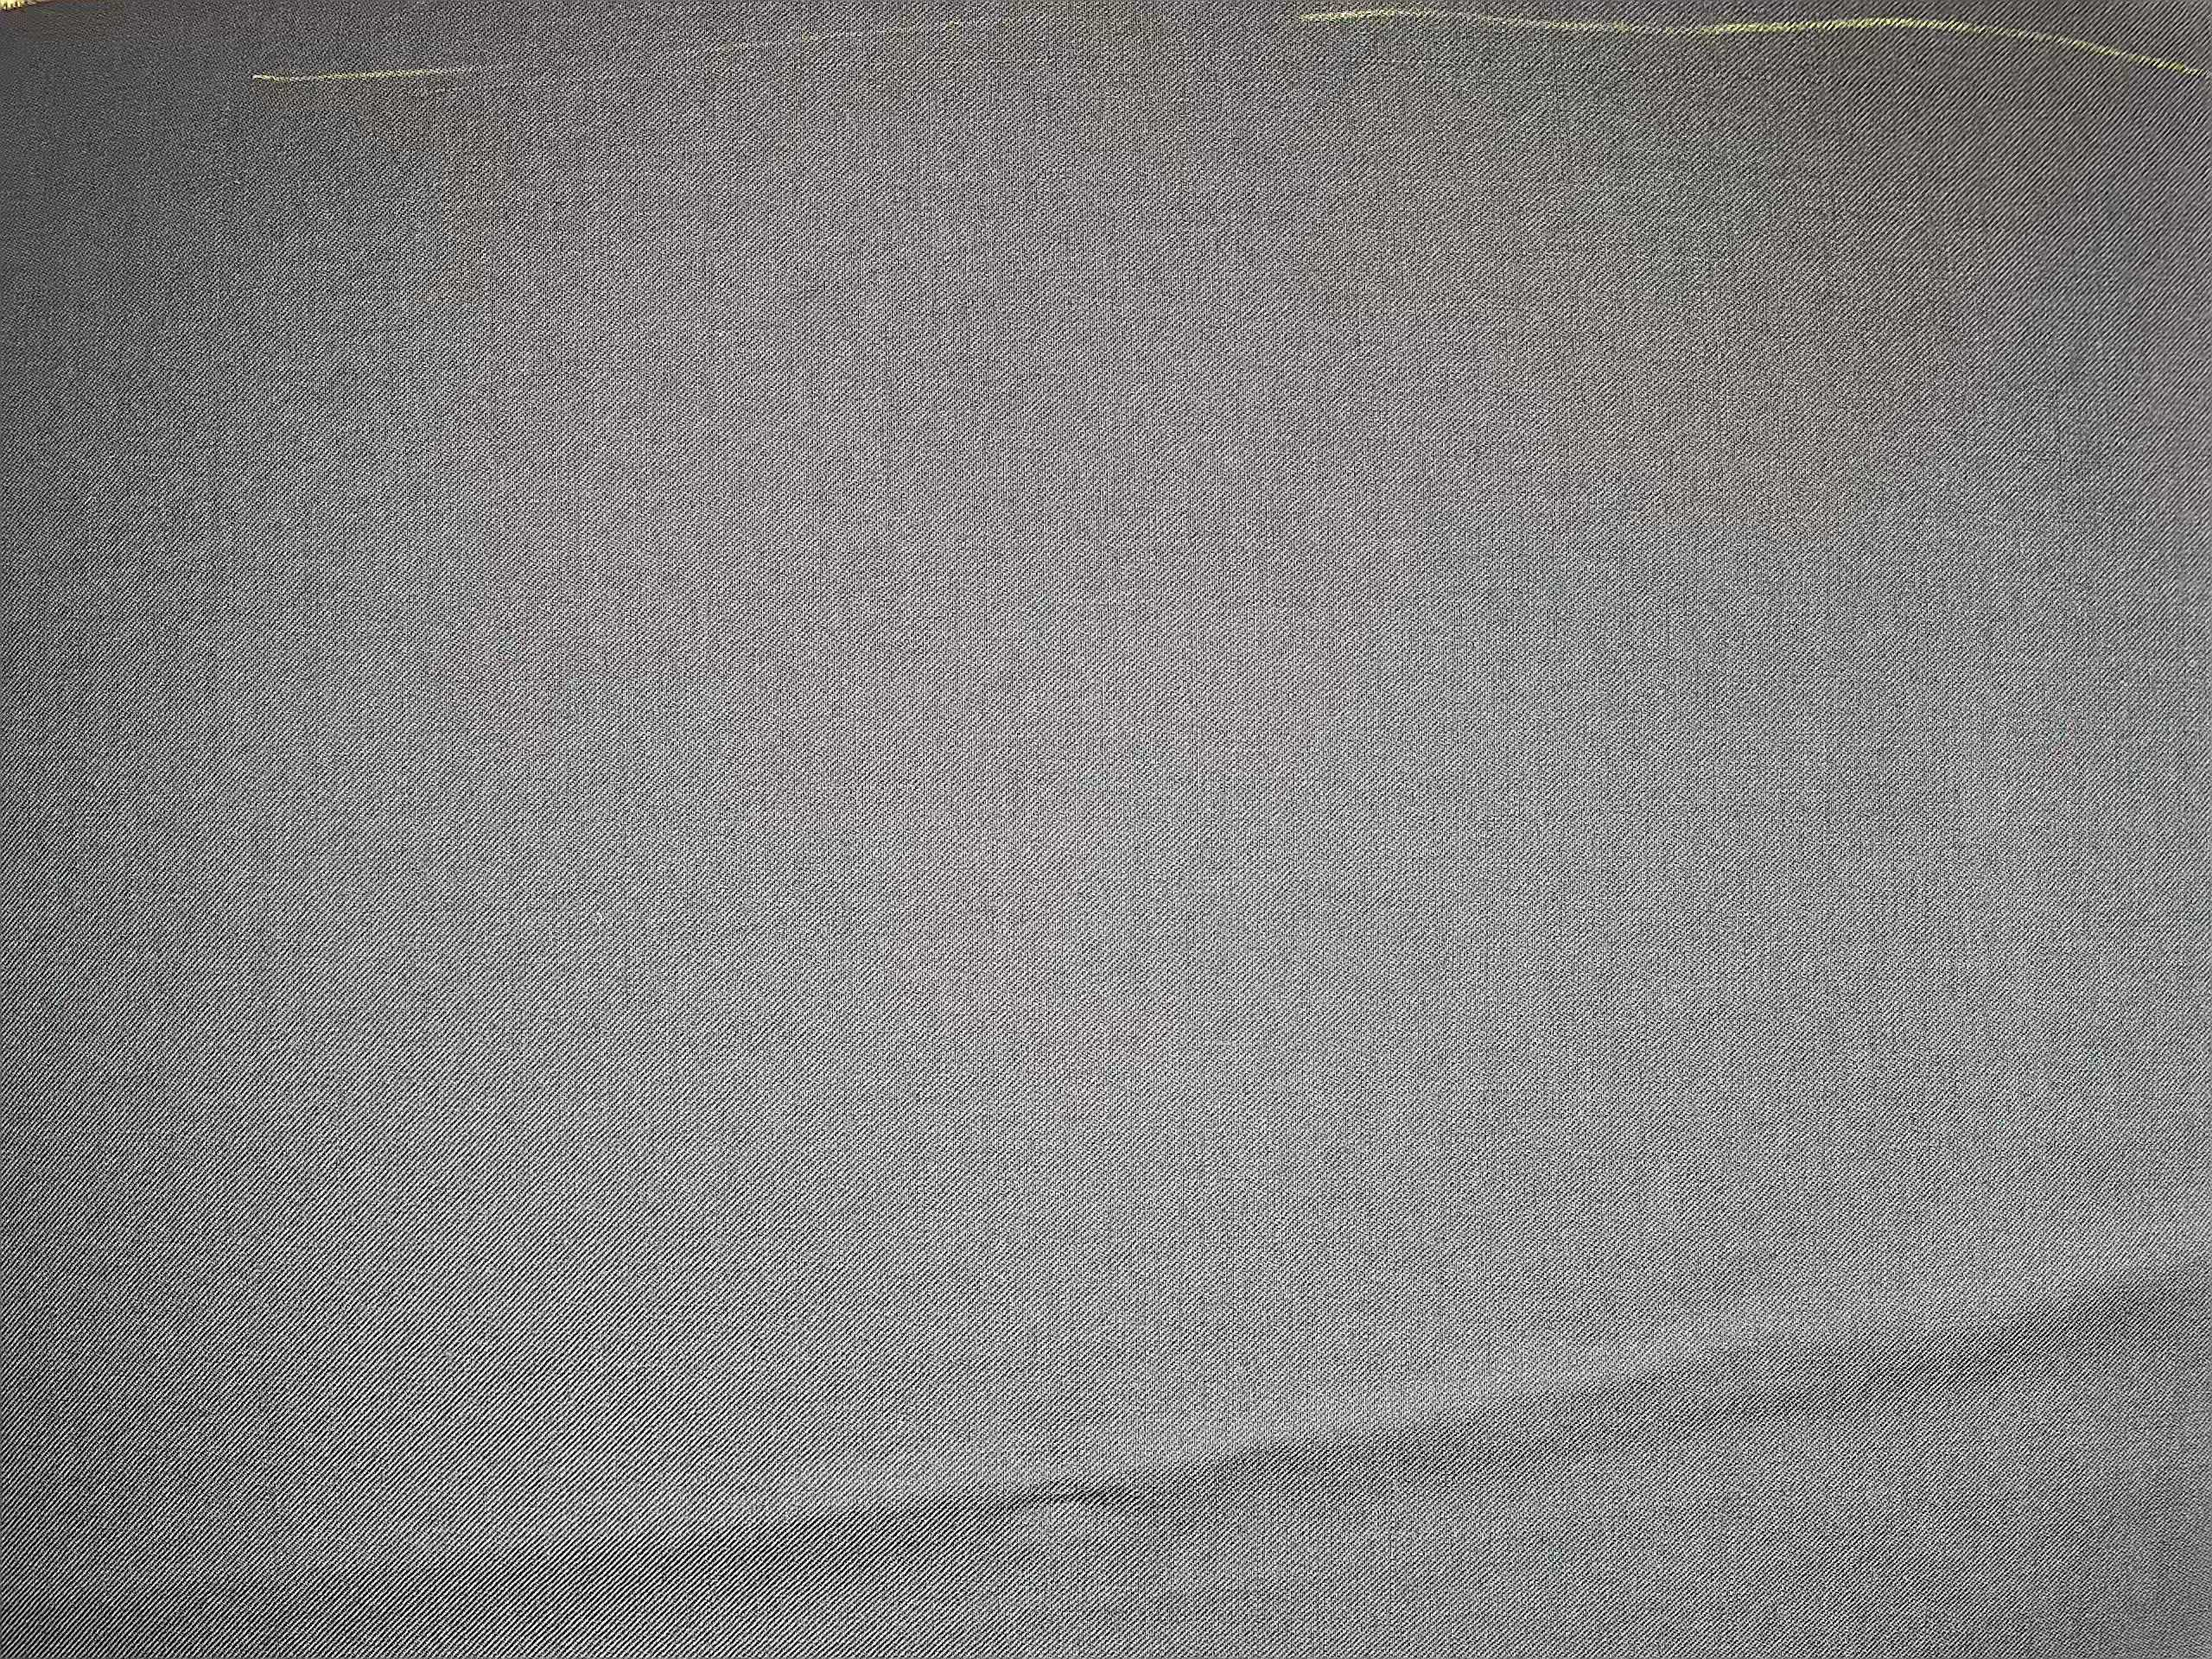thin-spinning: (392, 52, 2012, 108)
